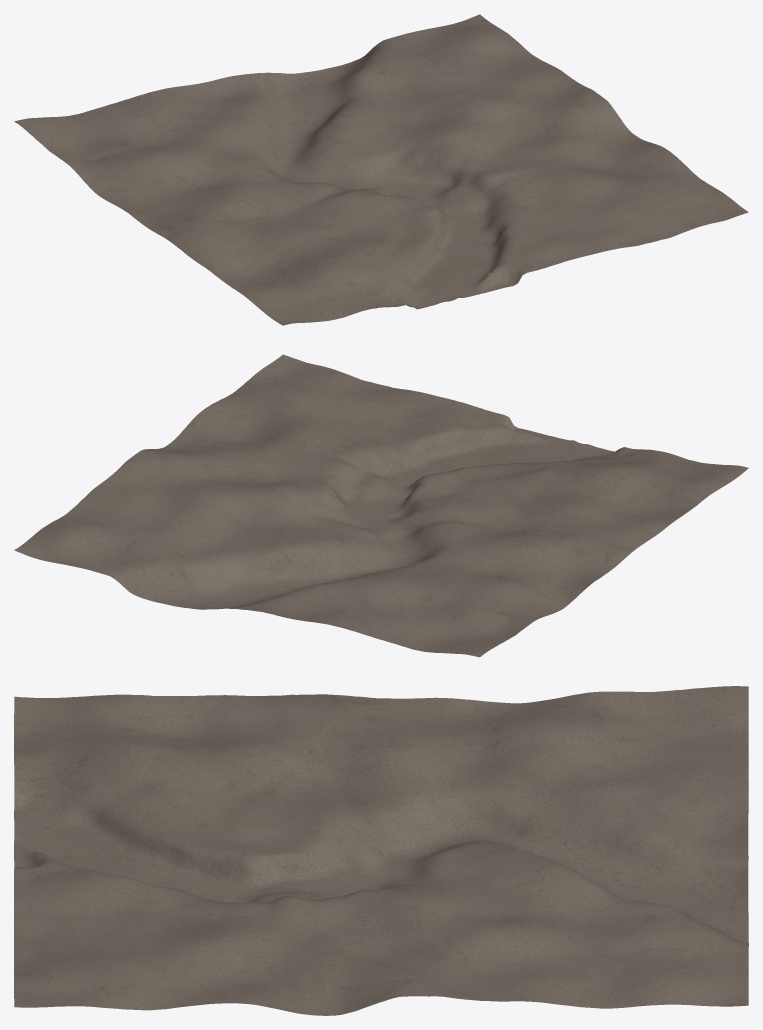
File: ground3.glb
3 renders of one model, top to bottom at view 1: azimuth 30°, elevation 25°; view 2: azimuth 150°, elevation 25°; view 3: azimuth 270°, elevation 25°, orthographic. The views are drawn at different scales.
Parts seen in each view (by area): view 1: grass.001; view 2: grass.001; view 3: grass.001.
Part boxes in pixels (x1,y1,x2,y2): grass.001: [14, 14, 748, 325]; grass.001: [14, 354, 748, 657]; grass.001: [14, 686, 748, 1015].
Bounding box in the file's own units: 23.91 × 1.2 × 23.9.
1 material, 1 textured.
